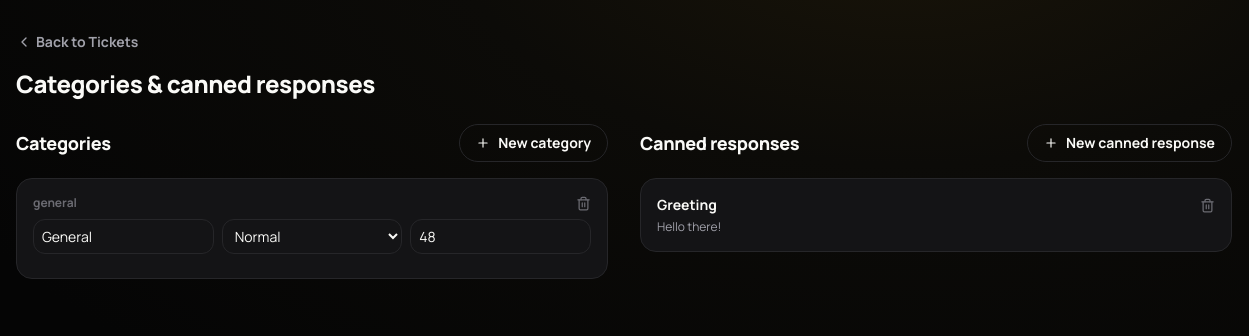
TicketSettings › shows the backend's error when deleting a category still in use
Expected: the element with test id "admin-ticket-settings-category-row-c1" is shown, [16,178,608,279]
Step 1. Click the button with test id "admin-ticket-settings-category-delete-btn-c1" → (584, 203), box [576,196,591,210]
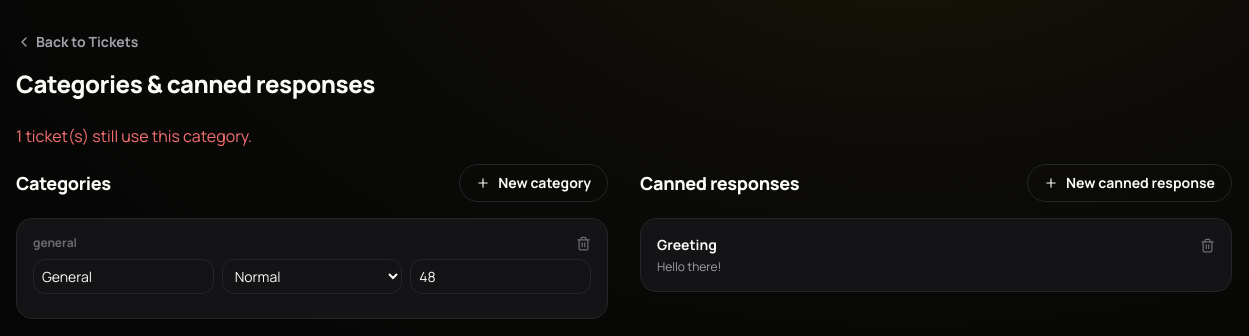
Expected: the text with test id "admin-ticket-settings-error" shows "still use this category", [16,125,252,147]
